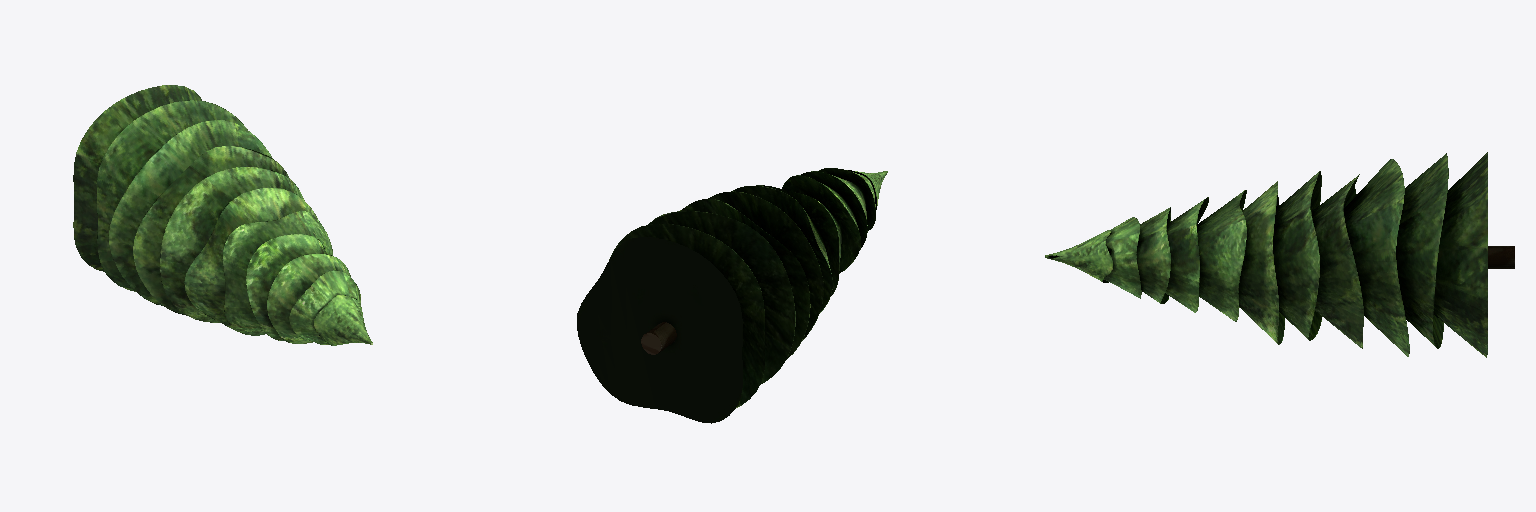
The picture shows the model from 3 angles: view 1: azimuth 30°, elevation 25°; view 2: azimuth 150°, elevation 25°; view 3: azimuth 270°, elevation 25°; orthographic projection.
Visible parts, largest first — view 1: 10447_Pine_Tree_v1_SG; view 2: 10447_Pine_Tree_v1_SG; view 3: 10447_Pine_Tree_v1_SG.
Part boxes in pixels (bbox=[...]): 10447_Pine_Tree_v1_SG: bbox=[73, 85, 372, 345]; 10447_Pine_Tree_v1_SG: bbox=[577, 168, 887, 423]; 10447_Pine_Tree_v1_SG: bbox=[1045, 152, 1514, 357].
Bounding box in the file's own units: 206 × 208 × 478.
1 materials, 1 textured.